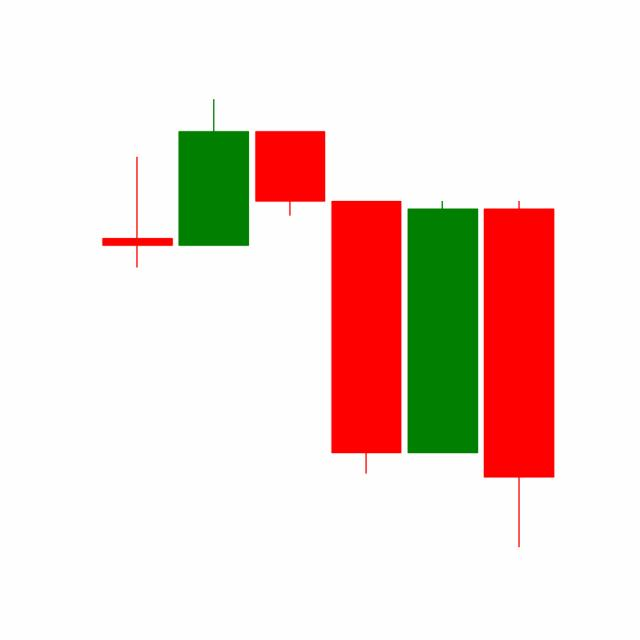Marubozu: (403, 197, 481, 455)
